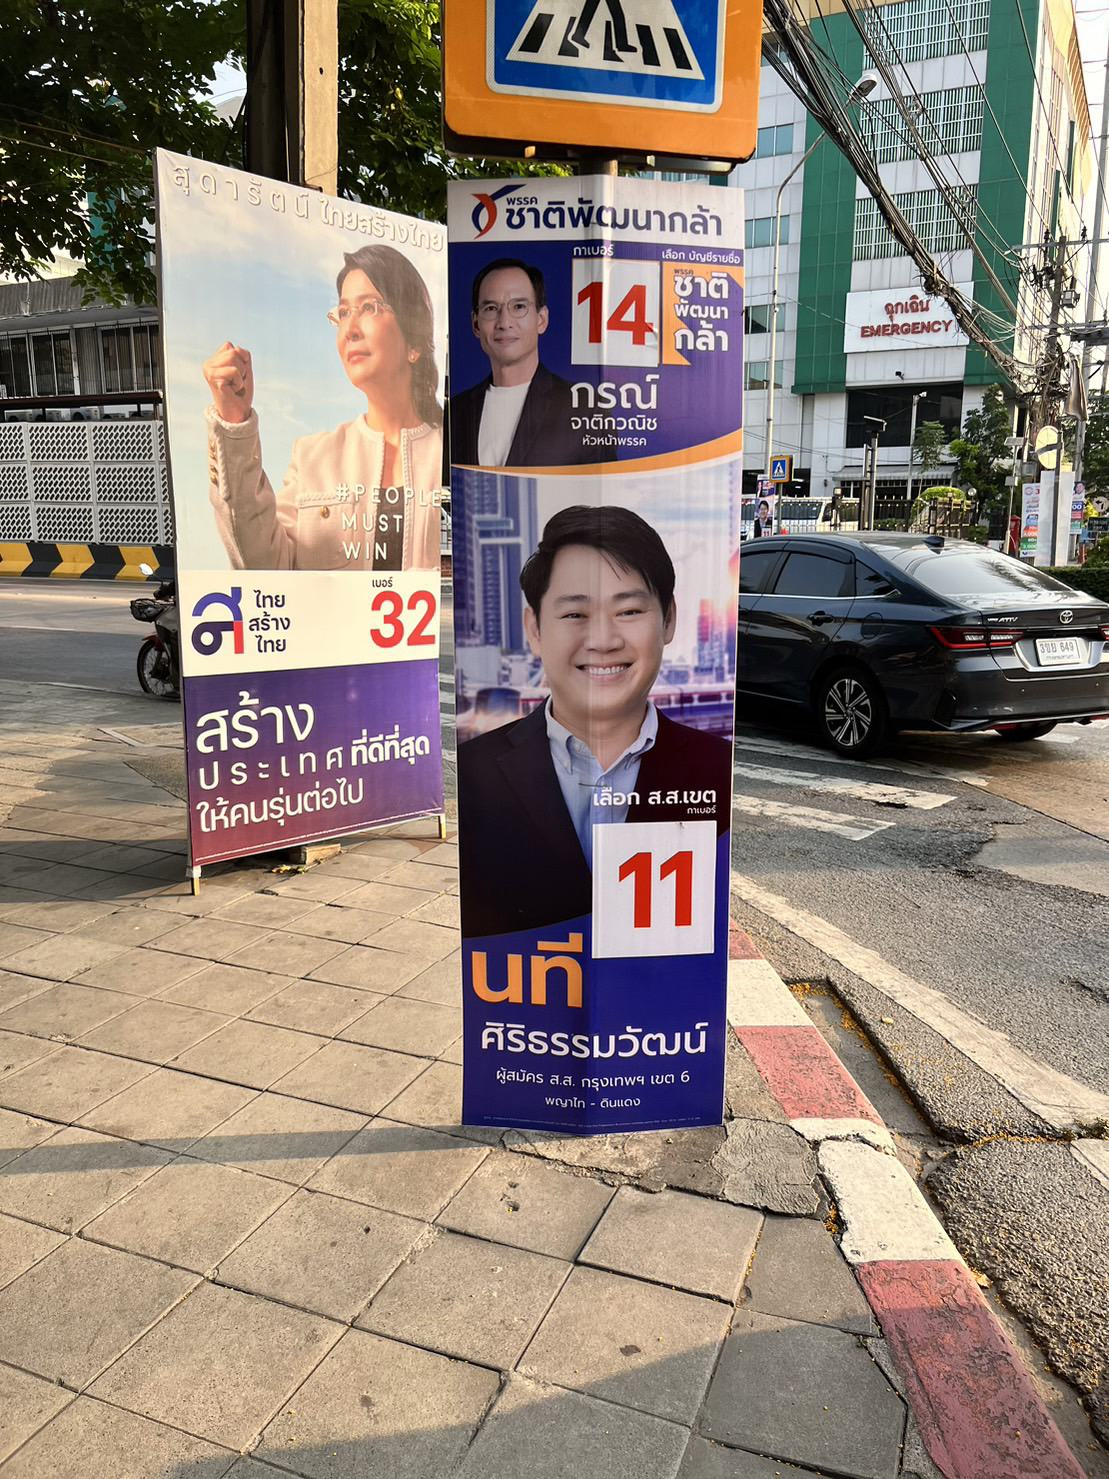Banner: (444, 176, 728, 1131), (157, 146, 444, 858)
